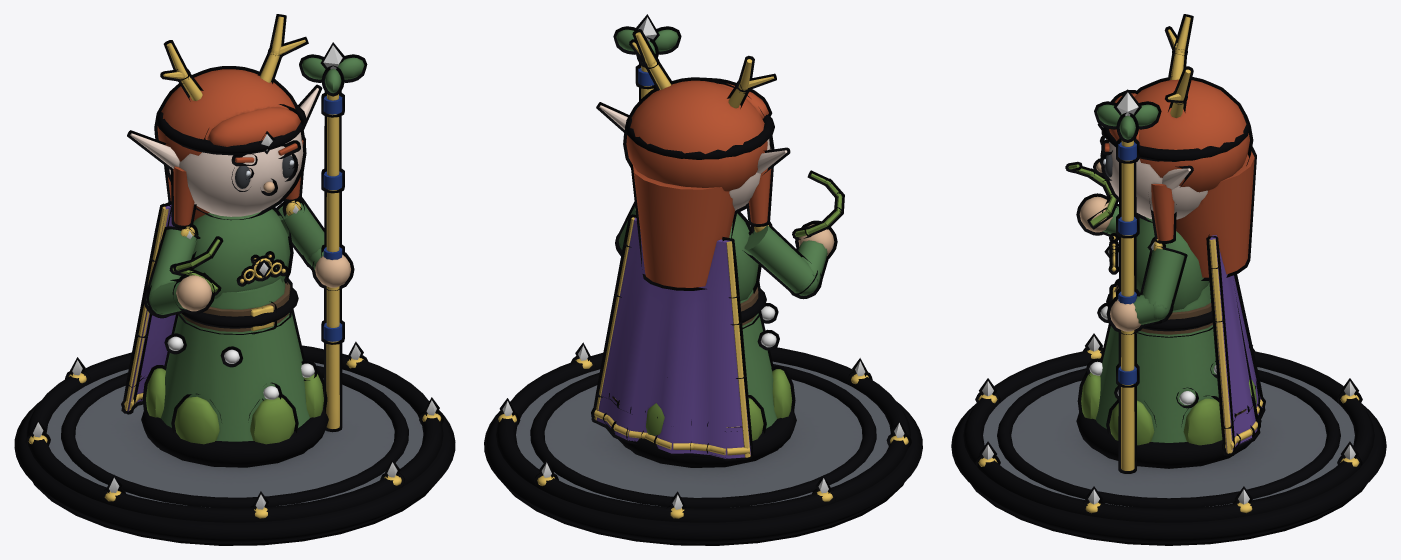
File: druid_s5.fbx
3 renders of one model, left to right at view 1: azimuth 30°, elevation 25°; view 2: azimuth 150°, elevation 25°; view 3: azimuth 270°, elevation 25°, orthographic.
Visible parts, largest first — view 1: druid_s5; view 2: druid_s5; view 3: druid_s5.
Part boxes in pixels (<box>): druid_s5: <box>14,14,455,545</box>; druid_s5: <box>484,14,922,545</box>; druid_s5: <box>951,14,1386,545</box>.
Bounding box in the file's own units: 1.58 × 1.67 × 1.58.
2 materials, 1 textured.
